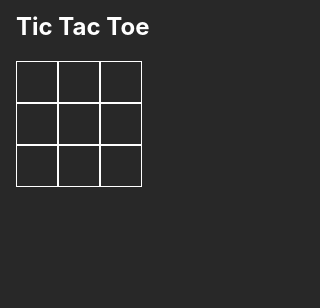
Test: TicTacToe › displays a winner O once the board has been won by O
The image size is (320, 308).
Step 1. Click the 1st cell with test id "cell" → [37, 82], box [16, 61, 58, 103]
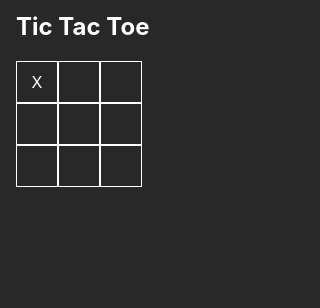
Step 2. Click the 2nd cell with test id "cell" → [79, 82], box [58, 61, 100, 103]
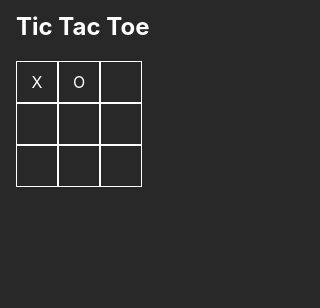
Step 3. Click the 4th cell with test id "cell" → [37, 124], box [16, 103, 58, 145]
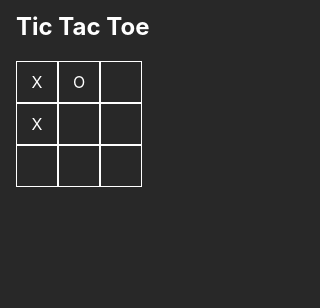
Step 4. Click the 5th cell with test id "cell" → [79, 124], box [58, 103, 100, 145]
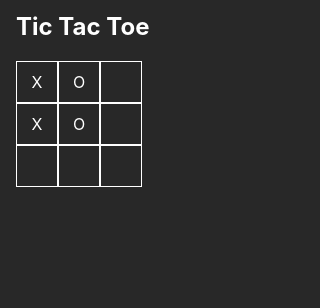
Step 5. Click the 9th cell with test id "cell" → [121, 166], box [100, 145, 142, 187]
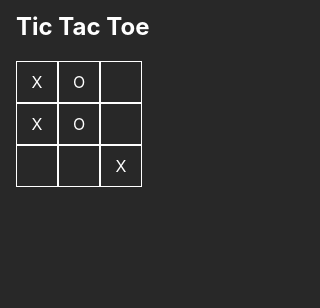
Step 6. Click the 8th cell with test id "cell" → [79, 166], box [58, 145, 100, 187]
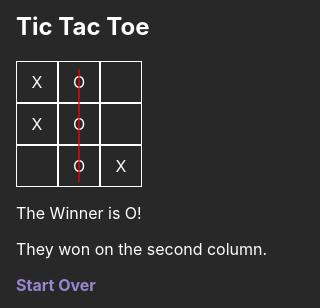
Now the text "The Winner is O" is shown, box [16, 203, 142, 223]
Now the text "They won on the second column" is shown, box [16, 239, 267, 259]
Now the drawing with test id "winning-line" is shown, box [16, 61, 142, 187]
